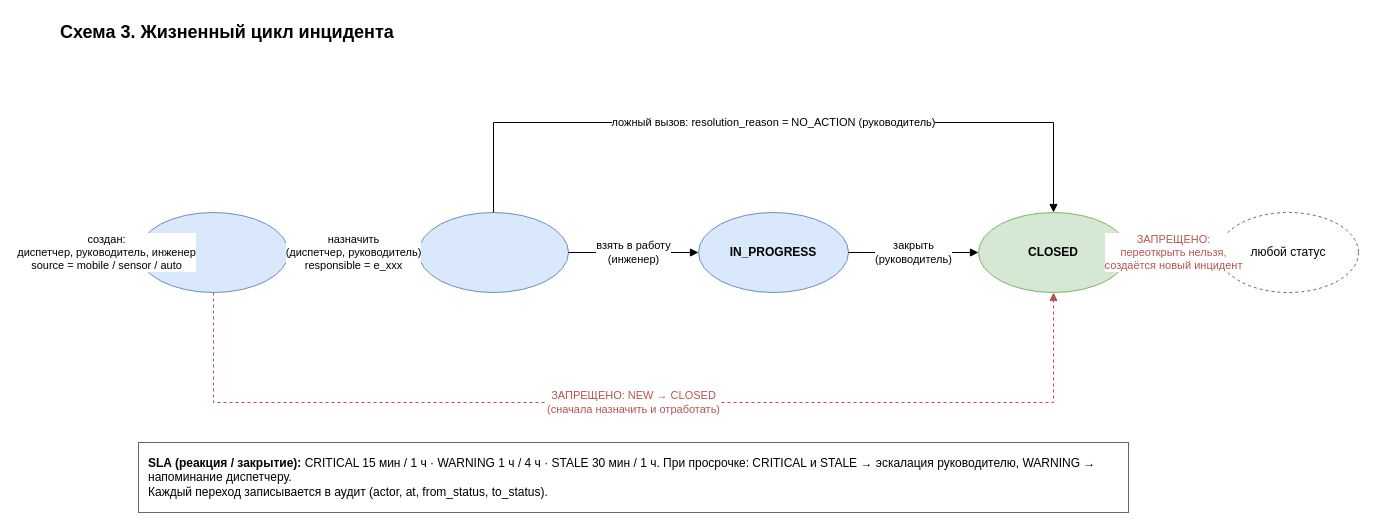
This 1376x530 diagram has some shape labels left out. Each missing label, with the centre of its shape:
ASSIGNED: pixel 493 252
NEW: pixel 213 252
